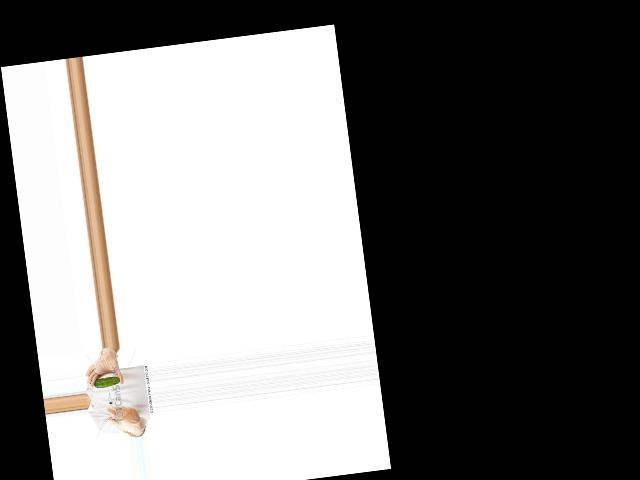cucumber: (92, 375, 120, 388)
